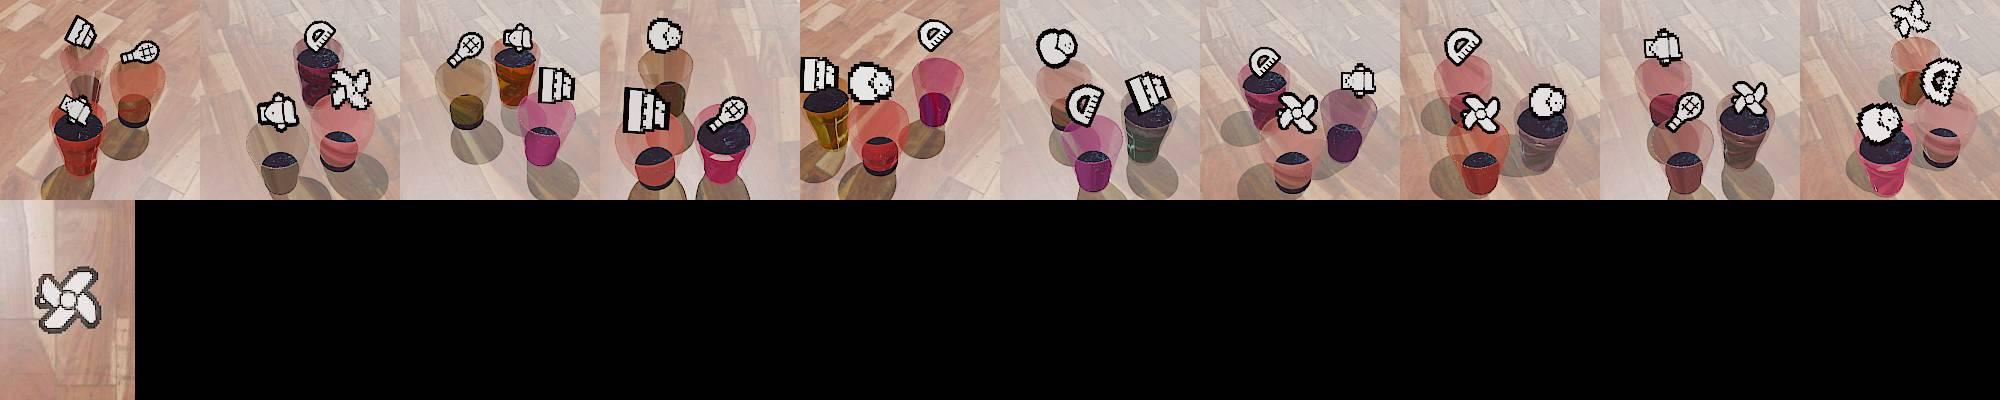icon: (33, 267, 104, 336), (623, 85, 672, 134), (1126, 70, 1173, 116), (846, 61, 896, 104), (1919, 56, 1962, 106), (1856, 101, 1904, 145), (327, 66, 374, 110), (1065, 83, 1107, 129), (256, 91, 300, 134), (1460, 92, 1503, 135), (1662, 91, 1705, 134), (1276, 90, 1320, 132), (1036, 27, 1078, 69), (704, 95, 748, 134), (800, 56, 842, 96), (537, 64, 576, 105), (1444, 27, 1482, 68), (1891, 0, 1930, 39), (447, 31, 485, 69), (1731, 79, 1769, 117), (1643, 28, 1683, 64), (646, 17, 683, 54), (1529, 83, 1567, 119), (63, 15, 99, 51), (1340, 62, 1377, 96), (58, 94, 94, 128), (916, 19, 952, 53), (1247, 46, 1282, 80), (302, 20, 336, 54), (118, 39, 158, 65), (503, 22, 535, 51)
